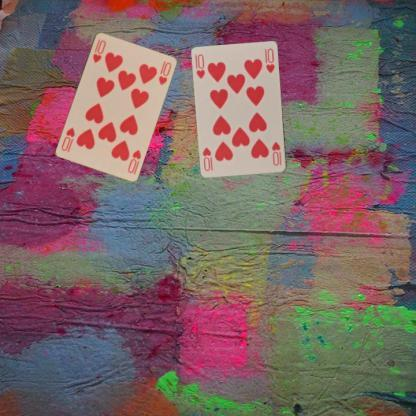10h: (90, 36, 107, 64), (125, 147, 142, 174), (269, 139, 282, 167), (194, 51, 206, 80)
